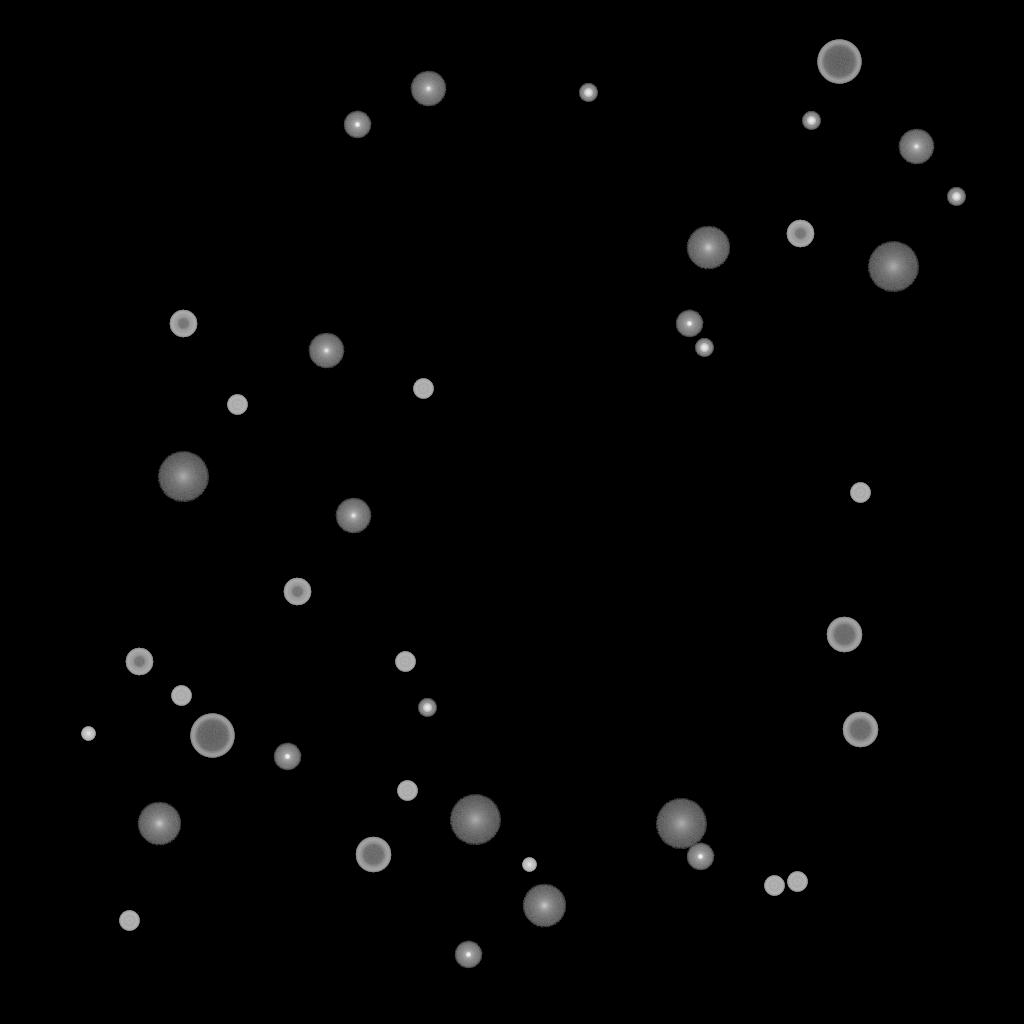depth:-10: (686, 843, 714, 871), (273, 743, 301, 771), (454, 941, 482, 969), (343, 111, 371, 139), (675, 310, 703, 338)
depth:-20: (418, 699, 436, 717), (802, 112, 820, 130), (947, 188, 965, 206), (695, 339, 713, 357), (579, 84, 597, 102)
depth:-30: (522, 858, 536, 872), (81, 727, 95, 741)
depth:-40: (171, 686, 191, 706), (397, 781, 417, 801), (119, 911, 139, 931), (395, 652, 415, 672), (787, 872, 807, 892), (850, 483, 870, 503), (413, 379, 433, 399), (764, 876, 784, 896), (227, 395, 247, 415)
depth:-50: (125, 648, 153, 676), (169, 310, 197, 338), (283, 578, 311, 606), (786, 220, 814, 248)
depth:-60: (355, 837, 391, 873), (842, 712, 878, 748), (826, 617, 862, 653)
depth:-70: (190, 714, 234, 758), (817, 40, 861, 84)
depth:0: (898, 129, 934, 165), (308, 333, 344, 369), (335, 498, 371, 534), (410, 71, 446, 107)
depth:10: (522, 884, 566, 928), (137, 802, 181, 846), (686, 226, 730, 270)
depth:20: (655, 799, 707, 849), (449, 795, 501, 845), (867, 242, 919, 292), (157, 452, 209, 502)
